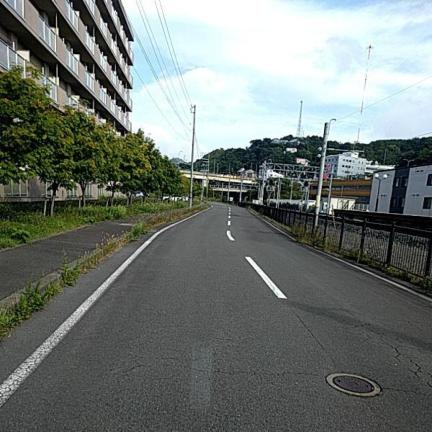Road: (0, 204, 431, 431)
